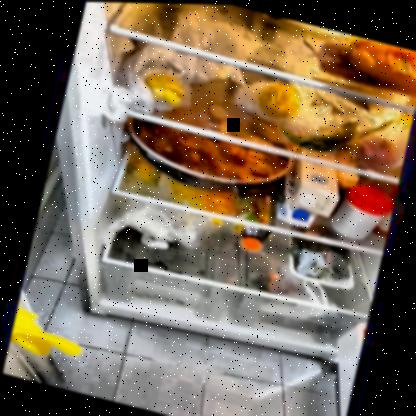broccoli: (283, 236, 361, 291)
carrot: (319, 34, 416, 95)
green_chillies: (287, 112, 361, 159)
lemon: (141, 65, 198, 113), (257, 78, 306, 123)
milk: (266, 13, 412, 56), (279, 156, 344, 233)
tomato: (352, 129, 404, 171)
